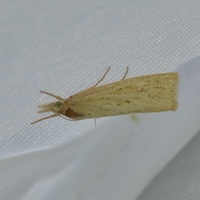insect: (31, 67, 178, 123)
